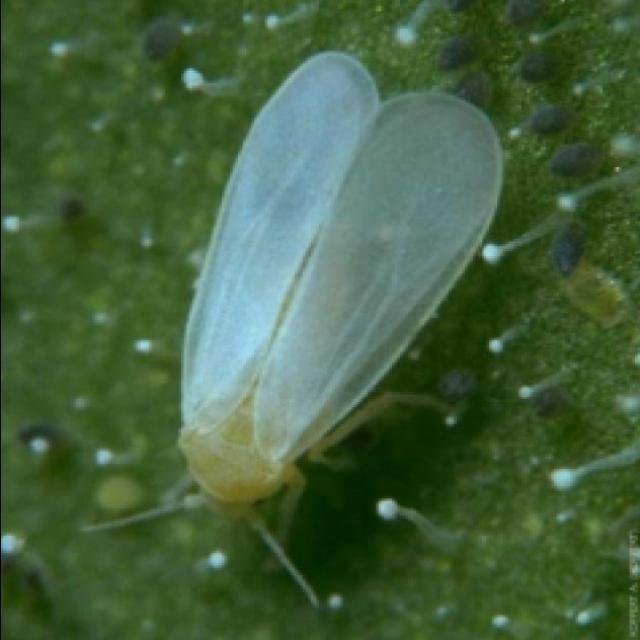Whitefly: (70, 35, 512, 612)
